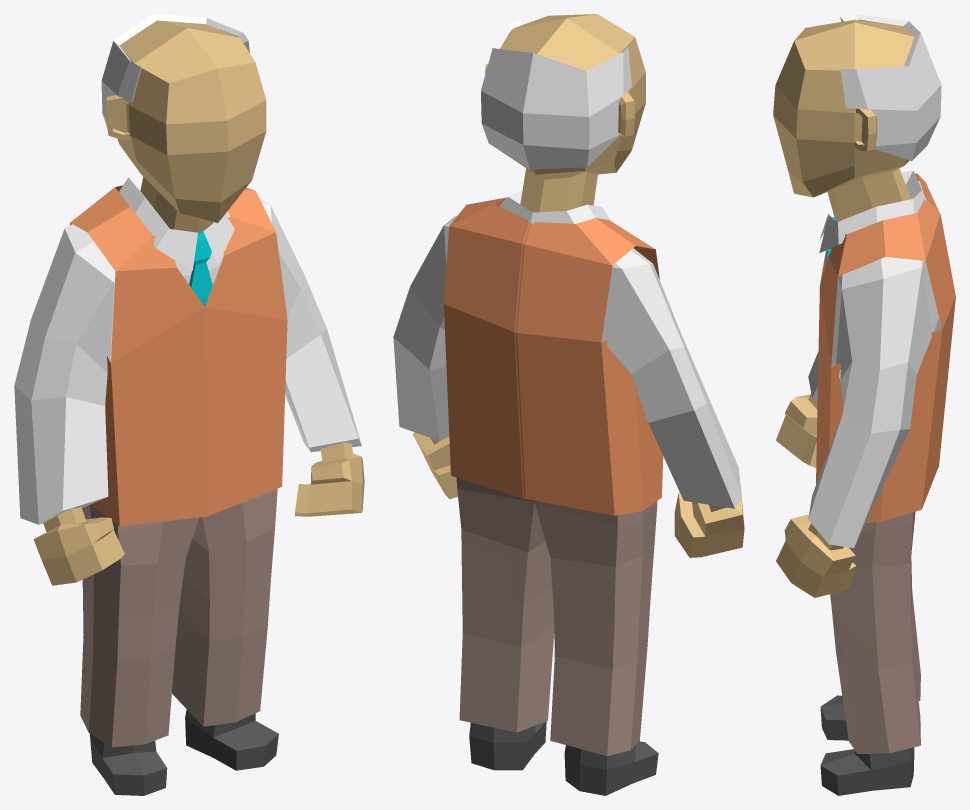
File: teacher.fbx
The picture shows the model from 3 angles, left to right: view 1: azimuth 30°, elevation 25°; view 2: azimuth 150°, elevation 25°; view 3: azimuth 270°, elevation 25°; orthographic projection.
Visible parts, largest first — view 1: Teacher_01; view 2: Teacher_01; view 3: Teacher_01.
Part boxes in pixels (box(x1,y1,x2,y2)): Teacher_01: box(14, 14, 364, 795); Teacher_01: box(393, 14, 744, 795); Teacher_01: box(773, 14, 955, 795).
Bounding box in the file's own units: 612 × 1296 × 292.
